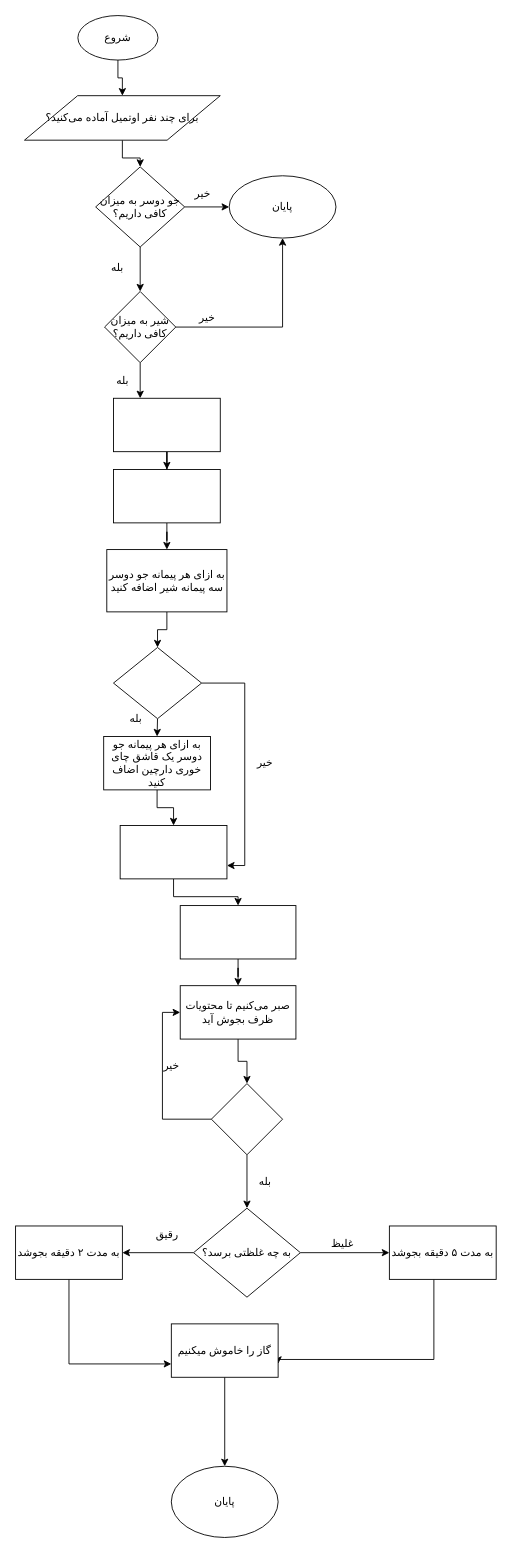
Image size: 512x1553. Some labels were removed from this diagram. The shapes that lost their labels are listed below. From the top down, each one's box as (x1, y1, x2, y2) in pixels, then its label:
(113, 397, 220, 452): به تعداد نفرات جو دو سر را پیمانه کنید.
(113, 469, 220, 523): جو دو سر پیمانه شده را در ظرفی فلزی بریزید
(113, 647, 202, 719): آیا طعم دارچین را دوست دارید؟
(119, 825, 227, 879): گاز را روشن کنید
(179, 905, 296, 959): ظرف را روی گاز بگذارید
(210, 1083, 283, 1155): جوش آمد؟
